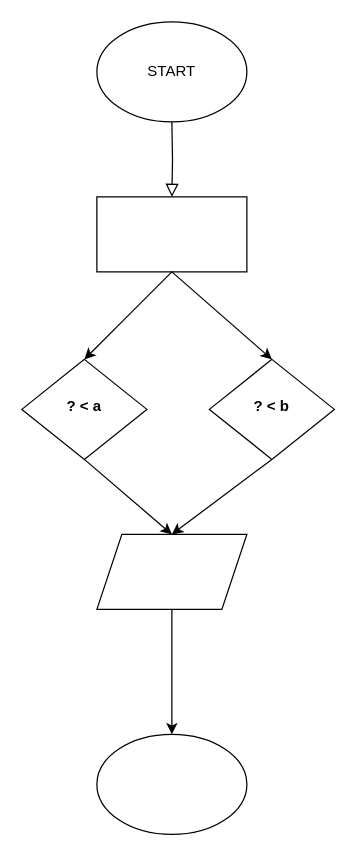
The diagram is 356 pixels wide and 856 high, and some of its shapes have lost their labels. Here are the shapes that lost their labels. From the top down, the box of each, then its label:
(96, 196, 247, 272): a , b
(96, 733, 247, 834): END
